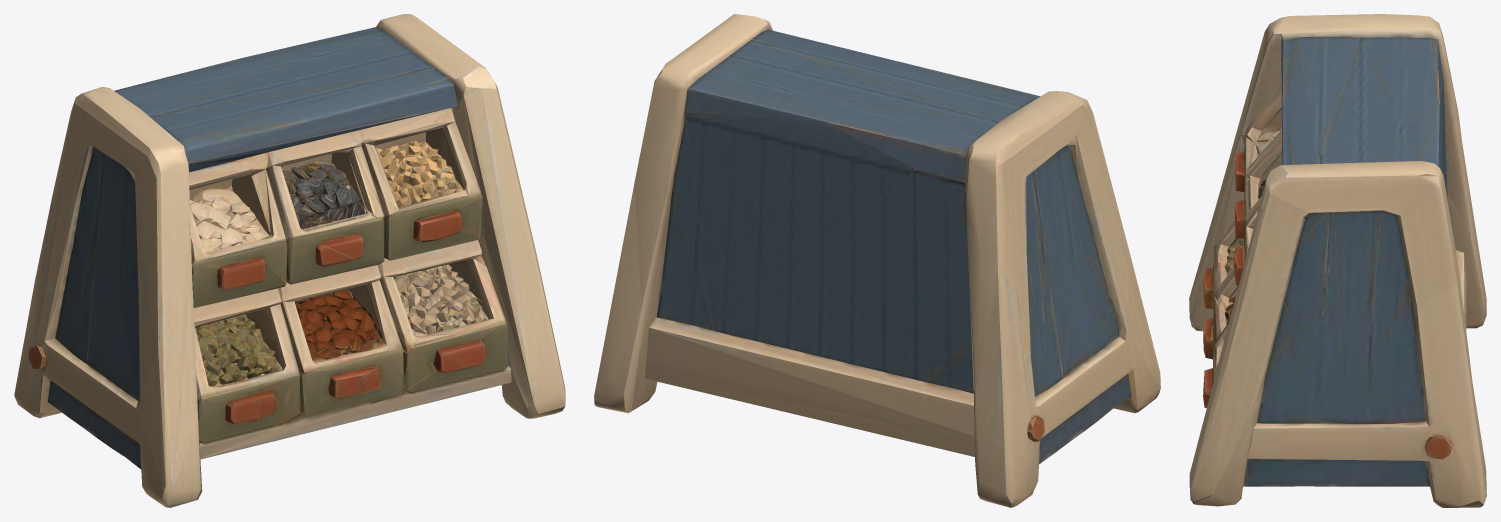
Rendered from seedCabinet.glb.
3 renders of one model, left to right at view 1: azimuth 30°, elevation 25°; view 2: azimuth 150°, elevation 25°; view 3: azimuth 270°, elevation 25°, orthographic. The views are drawn at different scales.
Parts seen in each view (by area): view 1: Mesh_0; view 2: Mesh_0; view 3: Mesh_0.
Boxes of the visible parts, box(x1,y1,x2,y2) form: Mesh_0: box(14, 14, 565, 507); Mesh_0: box(594, 14, 1160, 507); Mesh_0: box(1189, 14, 1486, 507).
Bounding box in the file's own units: 1.35 × 1.01 × 0.8501.
1 material, 1 textured.
